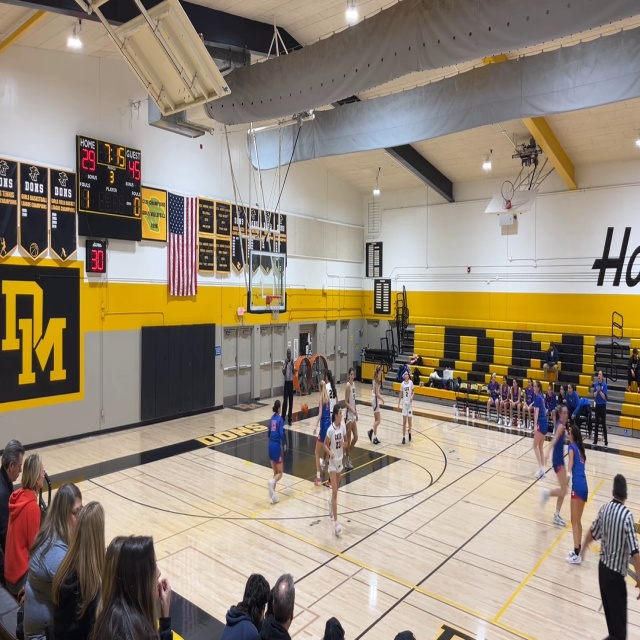Basketball: (301, 403, 308, 412)
